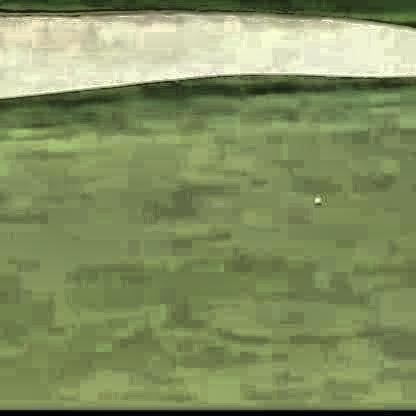golfball: (308, 192, 319, 203)
